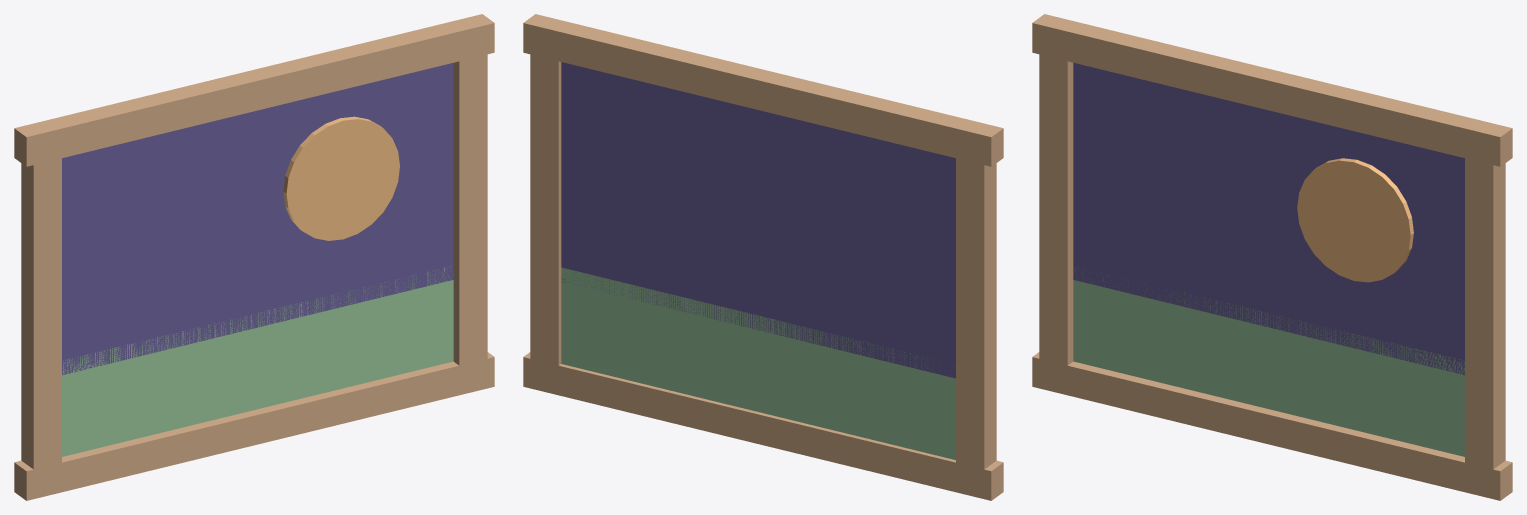
Rendered from Prop_ArtPlanet.glb.
The picture shows the model from 3 angles, left to right: view 1: azimuth 30°, elevation 25°; view 2: azimuth 150°, elevation 25°; view 3: azimuth 330°, elevation 25°; orthographic projection.
Parts seen in each view (by area): view 1: Prop_ArtPlanet; view 2: Prop_ArtPlanet; view 3: Prop_ArtPlanet.
Part boxes in pixels (x1,y1,x2,y2): Prop_ArtPlanet: [14, 14, 494, 500]; Prop_ArtPlanet: [523, 14, 1003, 500]; Prop_ArtPlanet: [1032, 14, 1512, 500].
Bounding box in the file's own units: 0.66 × 0.49 × 0.03.
